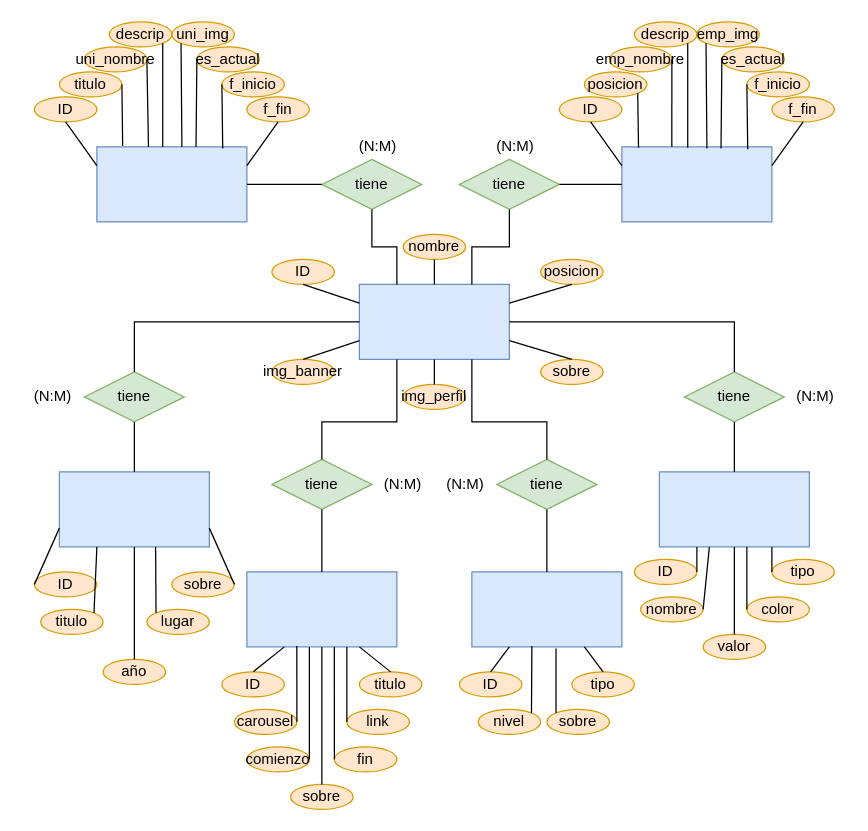
Image size: 868x831. Some labels were removed from this diagram. Each missing label, with the centre of its shape:
Educacion: (171,184)
Experiencia: (696,184)
Habilidad: (733,509)
Idioma: (546,609)
Logro: (133,509)
Persona: (433,321)
Proyecto: (321,609)
